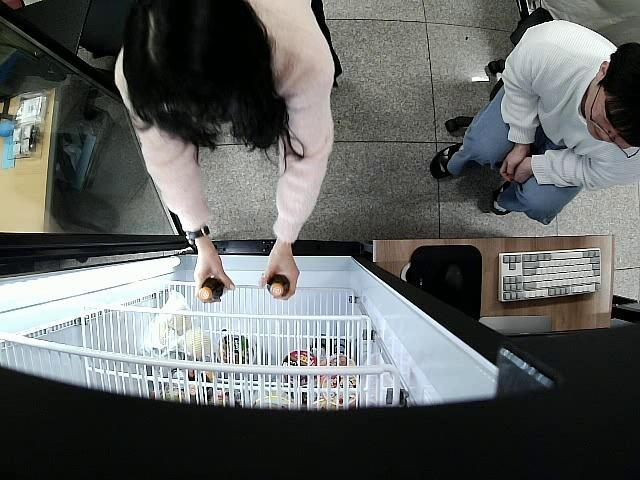17_vita500: (198, 278, 224, 302), (266, 272, 290, 298)
